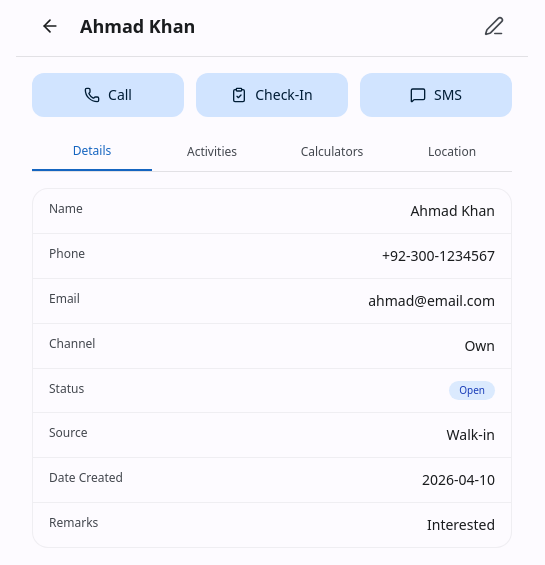
Test: LeadDetailContent › shows existing activity in the Activities tab
This screenshot has width=545, height=565.
Click the button "Activities" at (212, 152), box [152, 133, 272, 171]
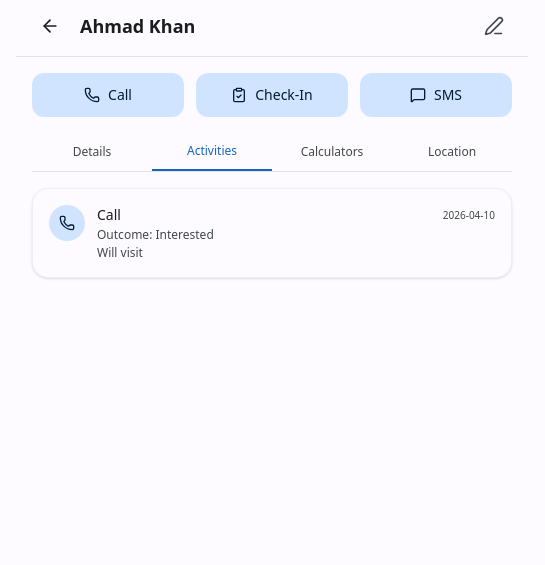
Expected: the text "Outcome: Interested" is shown, [97, 226, 214, 243]
